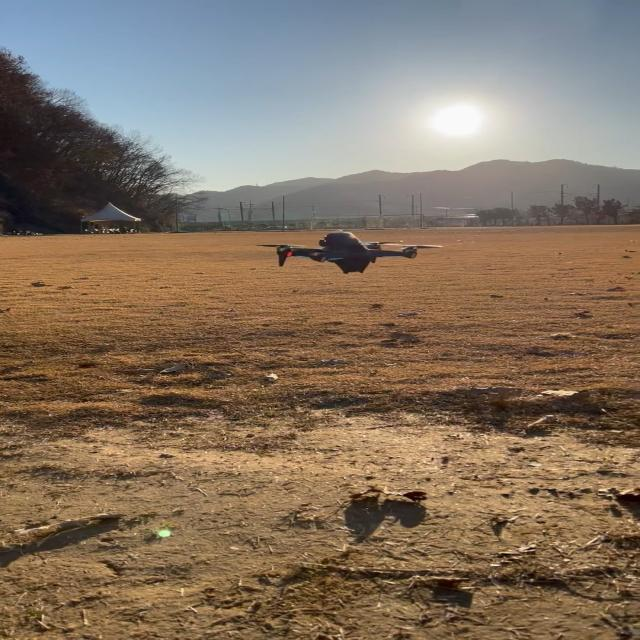drone: (254, 230, 443, 274)
